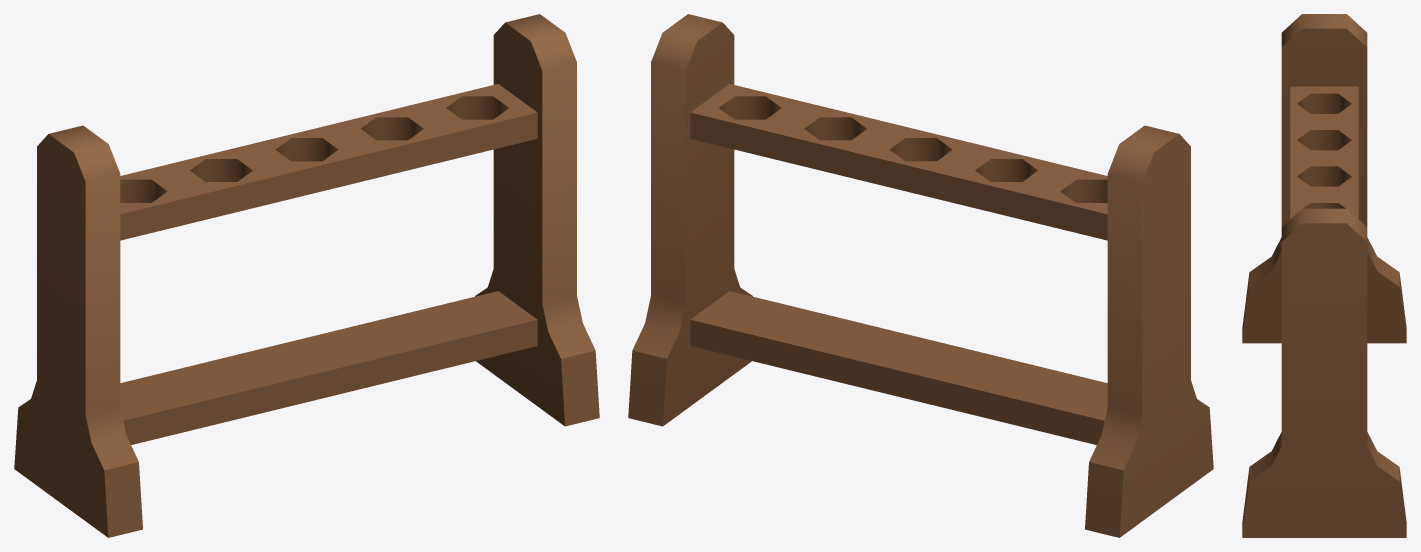
File: PotionBottleHolder1.fbx
The picture shows the model from 3 angles, left to right: view 1: azimuth 30°, elevation 25°; view 2: azimuth 150°, elevation 25°; view 3: azimuth 270°, elevation 25°; orthographic projection. The views are drawn at different scales.
Visible parts, largest first — view 1: PotionBottleHolder1; view 2: PotionBottleHolder1; view 3: PotionBottleHolder1.
Boxes of the visible parts, <box> form: PotionBottleHolder1: <box>14,14,599,537</box>; PotionBottleHolder1: <box>628,14,1213,537</box>; PotionBottleHolder1: <box>1242,14,1406,537</box>.
Bounding box in the file's own units: 33.44 × 23.43 × 11.1.
